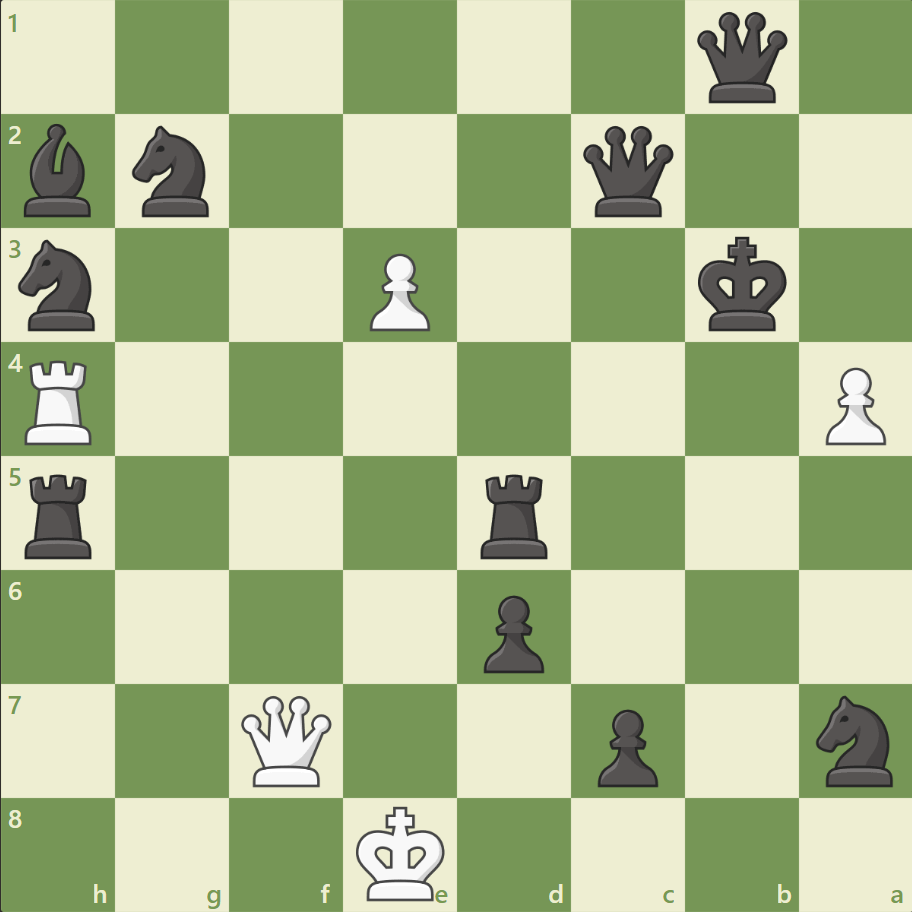K: (351, 798, 451, 906)
P: (815, 359, 889, 450), (361, 246, 435, 337)
Q: (237, 690, 336, 789)
R: (19, 352, 102, 449)
b: (17, 120, 101, 222)
k: (692, 231, 792, 339)
n: (124, 121, 222, 223), (806, 688, 903, 791), (11, 234, 108, 337)
p: (474, 586, 549, 677), (588, 700, 662, 791)
q: (578, 122, 677, 222), (691, 9, 790, 108)
r: (473, 466, 556, 563), (19, 466, 102, 563)
